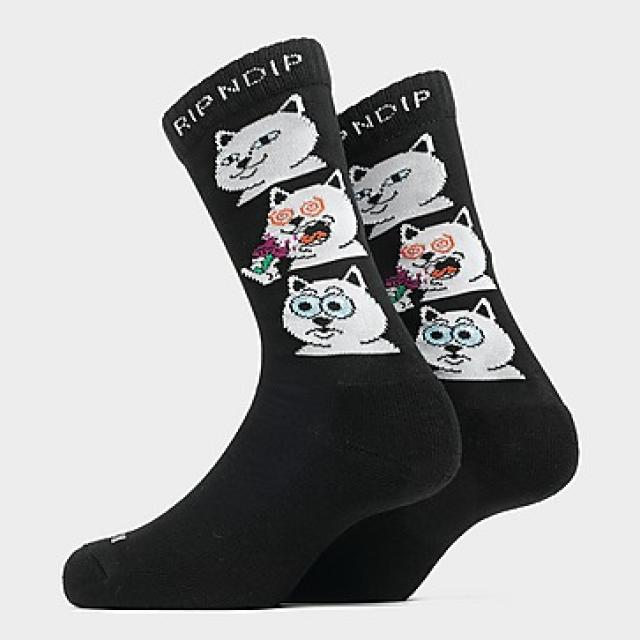sock: (62, 35, 462, 610), (279, 67, 578, 605)
